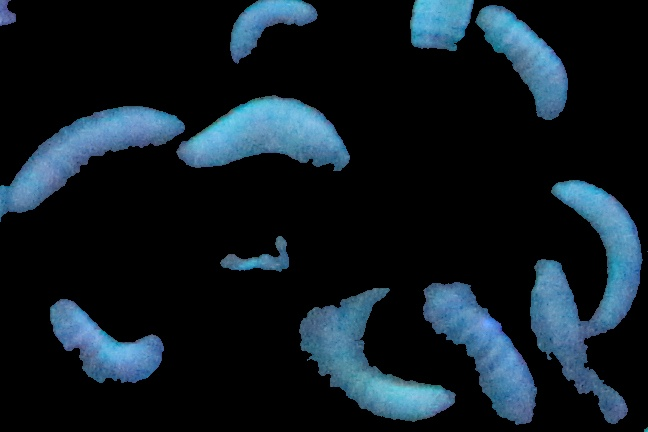larvae: (414, 277, 540, 430), (1, 105, 183, 210), (294, 297, 427, 424), (179, 93, 353, 173), (553, 181, 643, 333), (54, 290, 174, 390), (479, 7, 573, 127), (227, 1, 319, 67)
